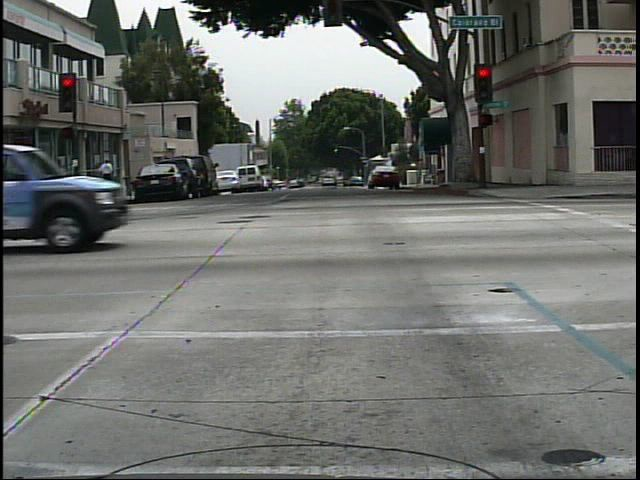person: (458, 139, 486, 196), (97, 154, 117, 191)
